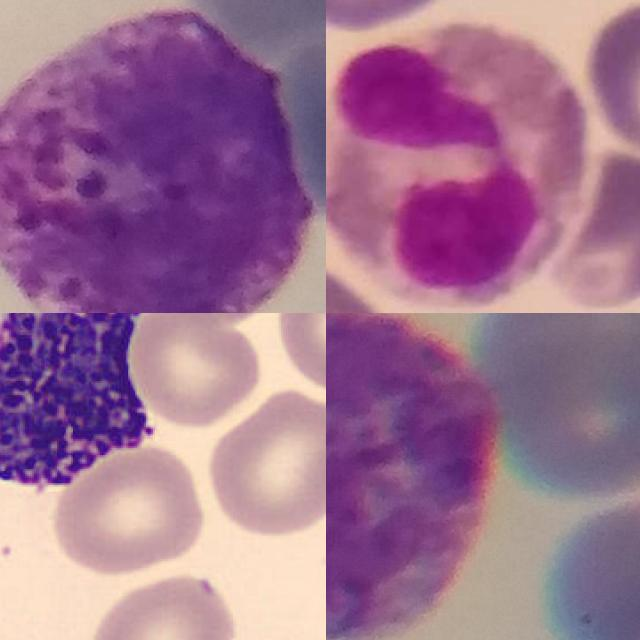Basophil: (0, 2, 312, 313), (326, 313, 498, 640), (0, 313, 165, 513)
Eosinophil: (326, 21, 588, 313)
RBC: (46, 443, 210, 577), (202, 386, 326, 537), (128, 313, 263, 432), (82, 566, 242, 640), (272, 313, 326, 398)
